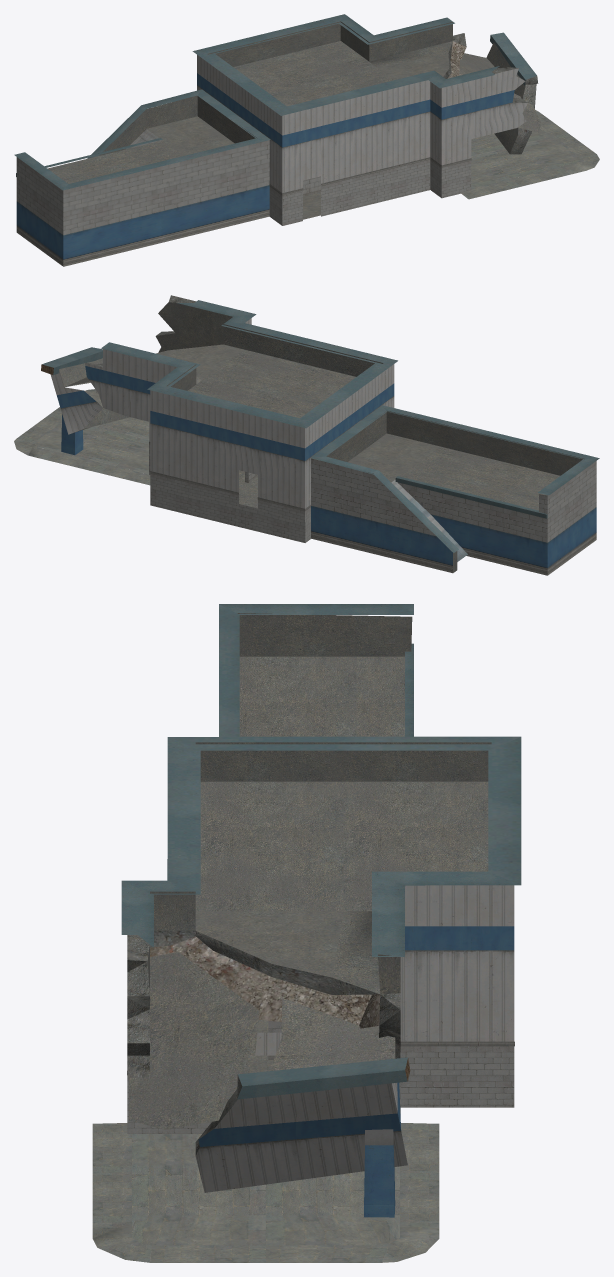
Rendered from Building_Fdc03_2048_lod2.glb.
3 renders of one model, top to bottom at view 1: azimuth 30°, elevation 25°; view 2: azimuth 150°, elevation 25°; view 3: azimuth 270°, elevation 25°, orthographic. The views are drawn at different scales.
Visible parts, largest first — view 1: xiutz_fdc_03_lod2; view 2: xiutz_fdc_03_lod2; view 3: xiutz_fdc_03_lod2.
Boxes of the visible parts, box(x1,y1,x2,y2) form: xiutz_fdc_03_lod2: box(14, 14, 599, 266); xiutz_fdc_03_lod2: box(14, 295, 599, 575); xiutz_fdc_03_lod2: box(92, 604, 521, 1262).
Size of the model in its own units: 43.34 by 9.07 by 15.57.
1 material, 1 textured.
